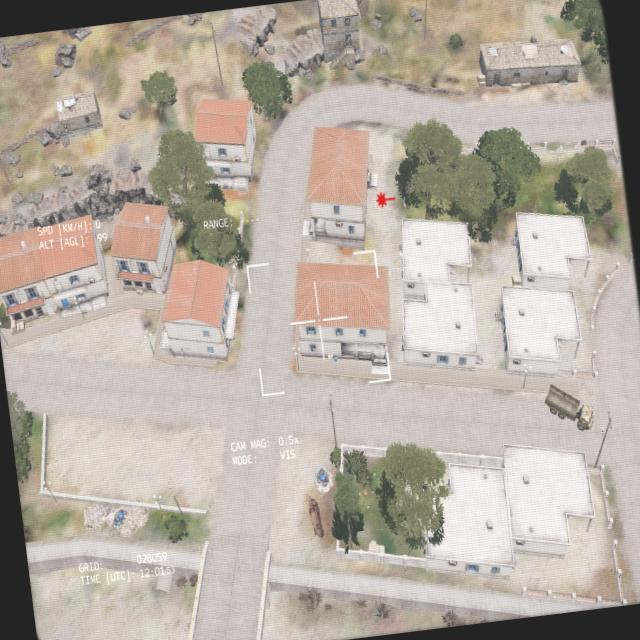truck: (540, 376, 596, 440)
